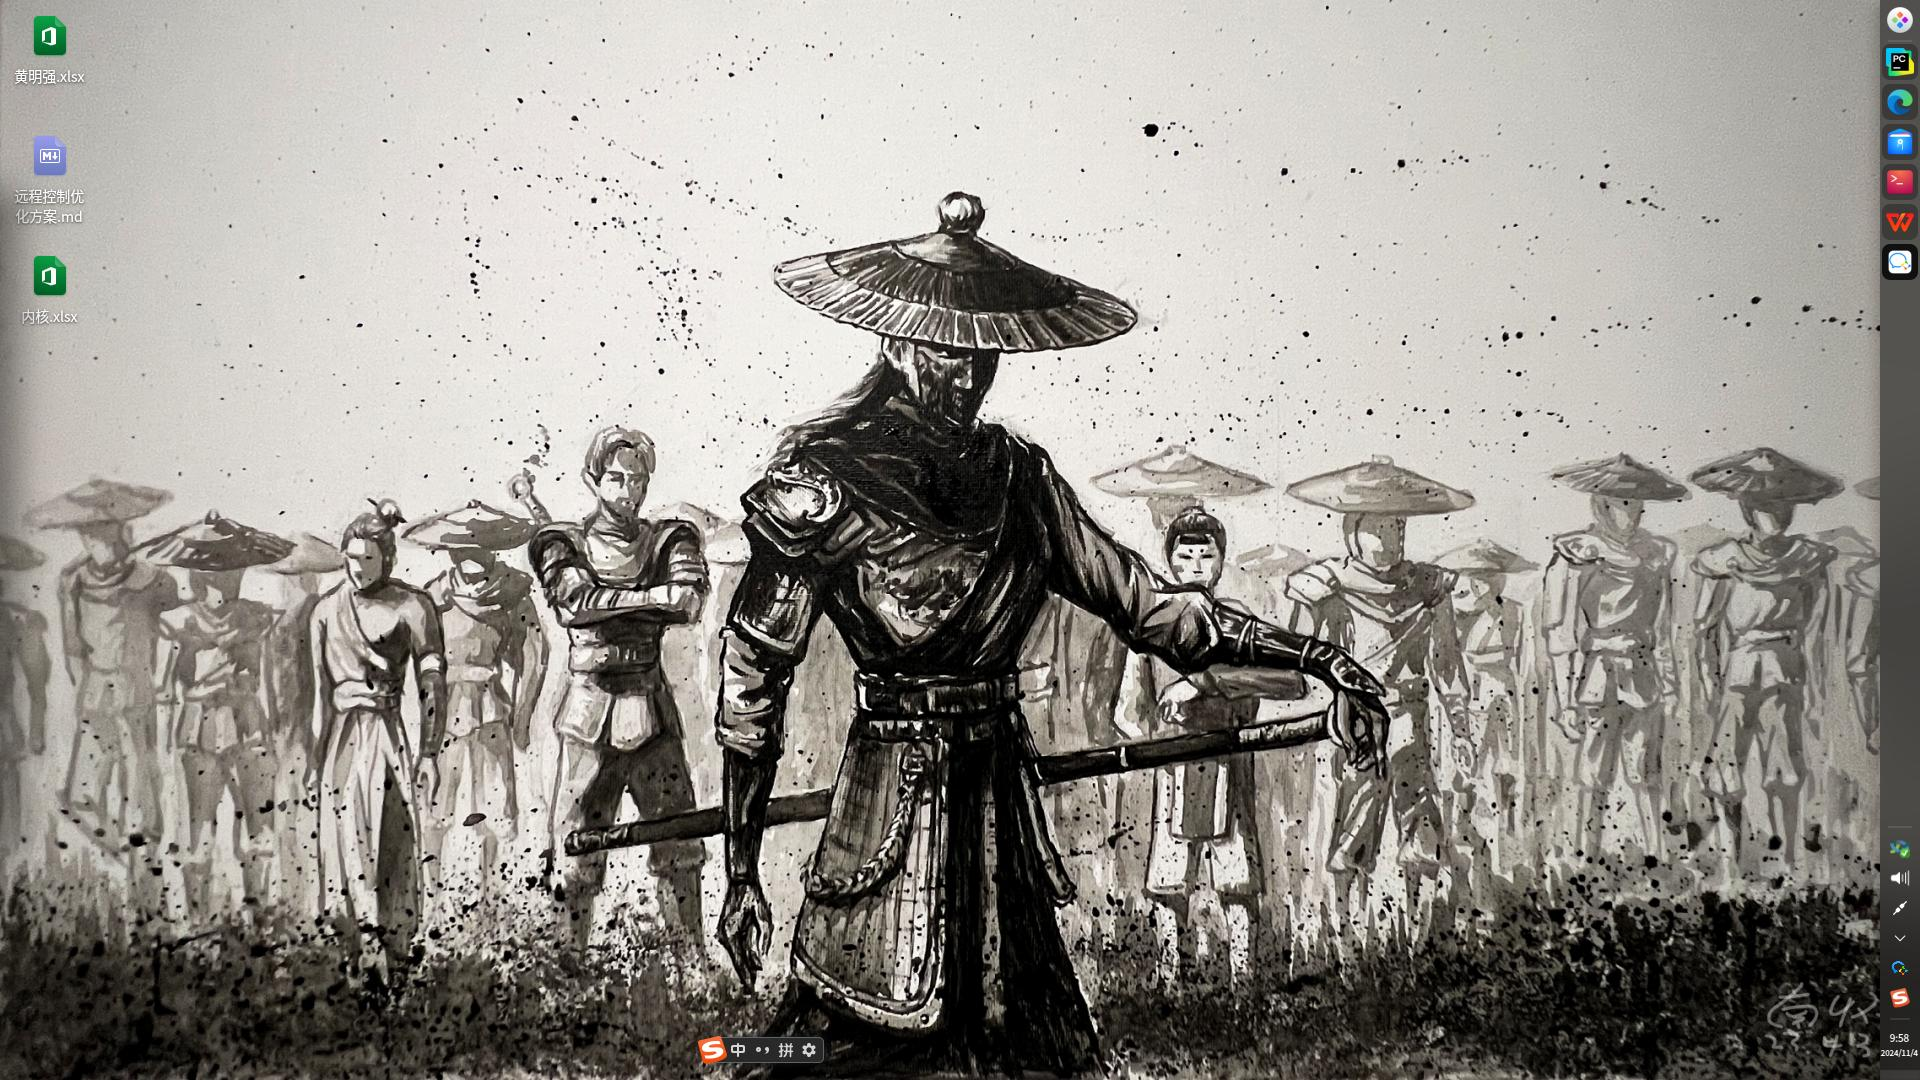dde_file_manager_icon: (1888, 127, 1915, 156)
dde_launcher_icon: (1886, 4, 1915, 34)
